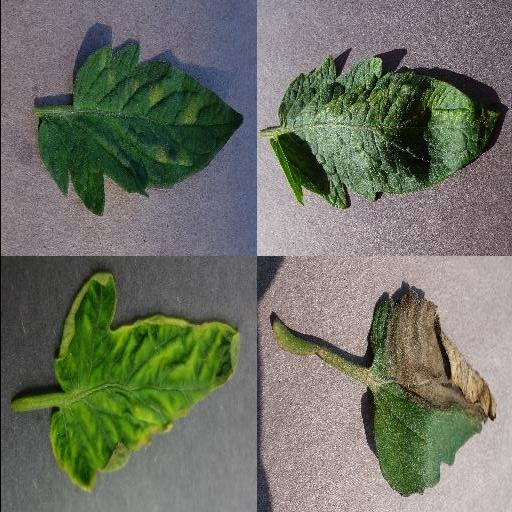Late Blight: (368, 285, 498, 497)
Leaf Mold: (36, 41, 244, 217)
Spider Mites: (268, 55, 502, 211)
Yellow Leaf Curl Virus: (49, 271, 241, 493)
